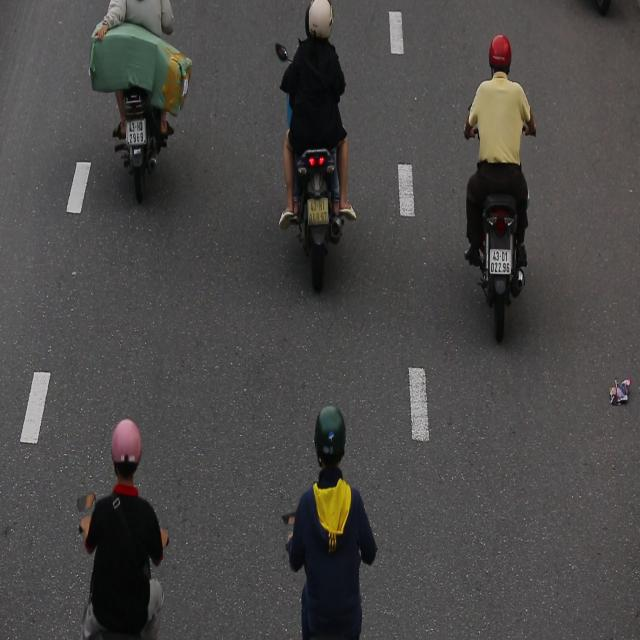motorbike: (459, 19, 542, 349), (269, 2, 362, 296)
